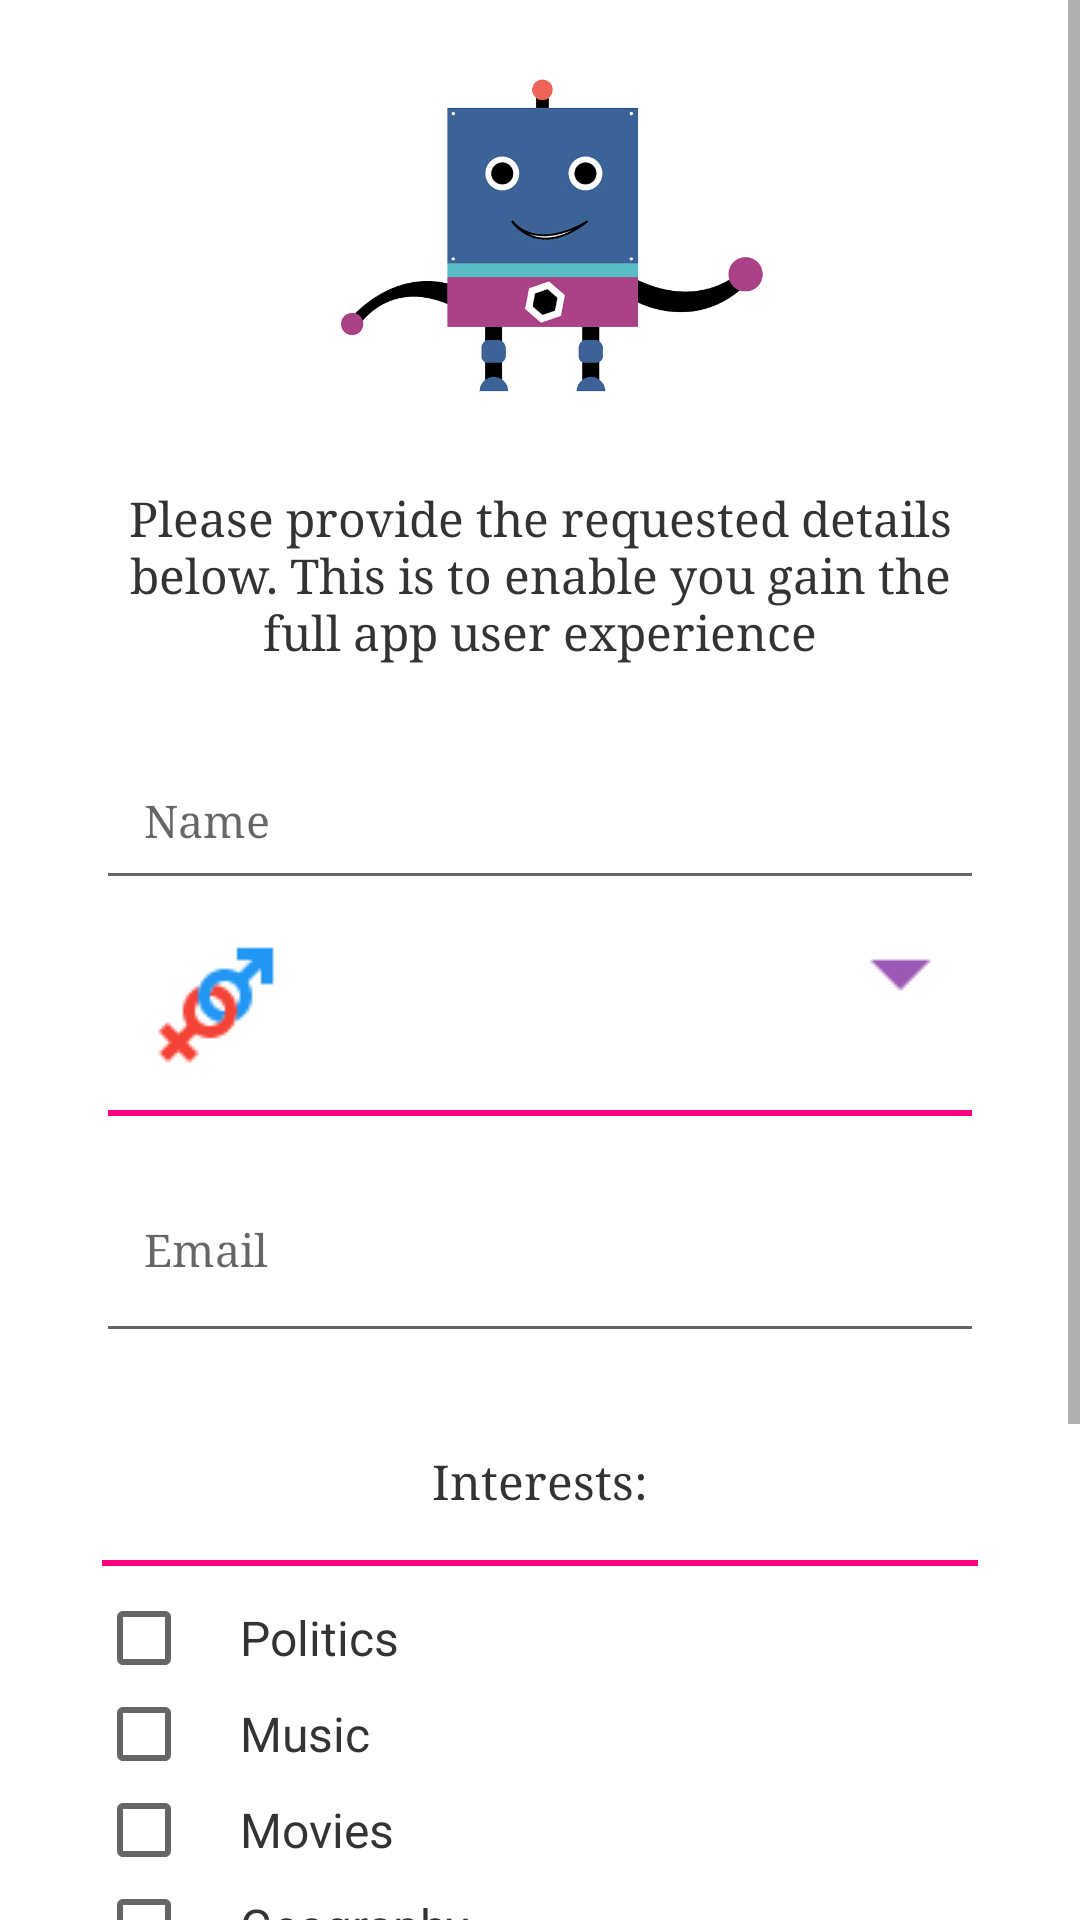

Icon click points for this 1080 × 1920 phone screenshot, format (x=x, y=y):
gender: (x=216, y=1005)
